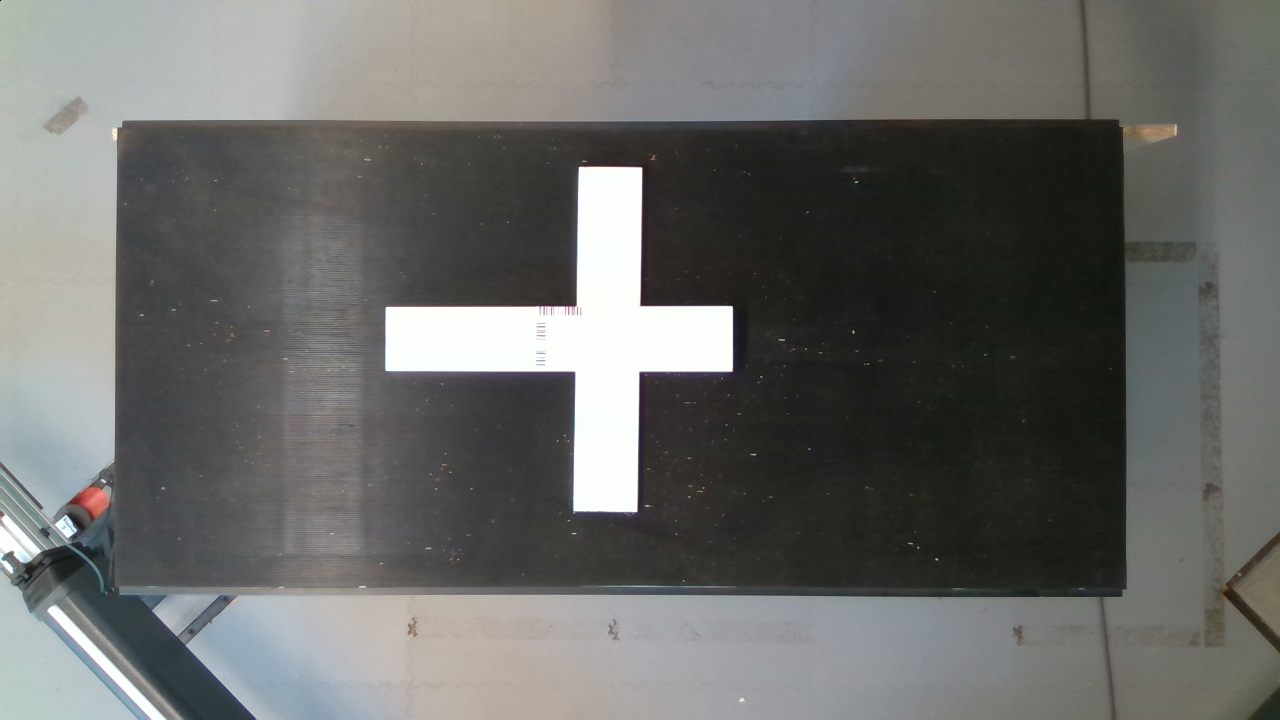barcode: (529, 301, 596, 376)
part1: (567, 150, 662, 524), (378, 298, 748, 387)
